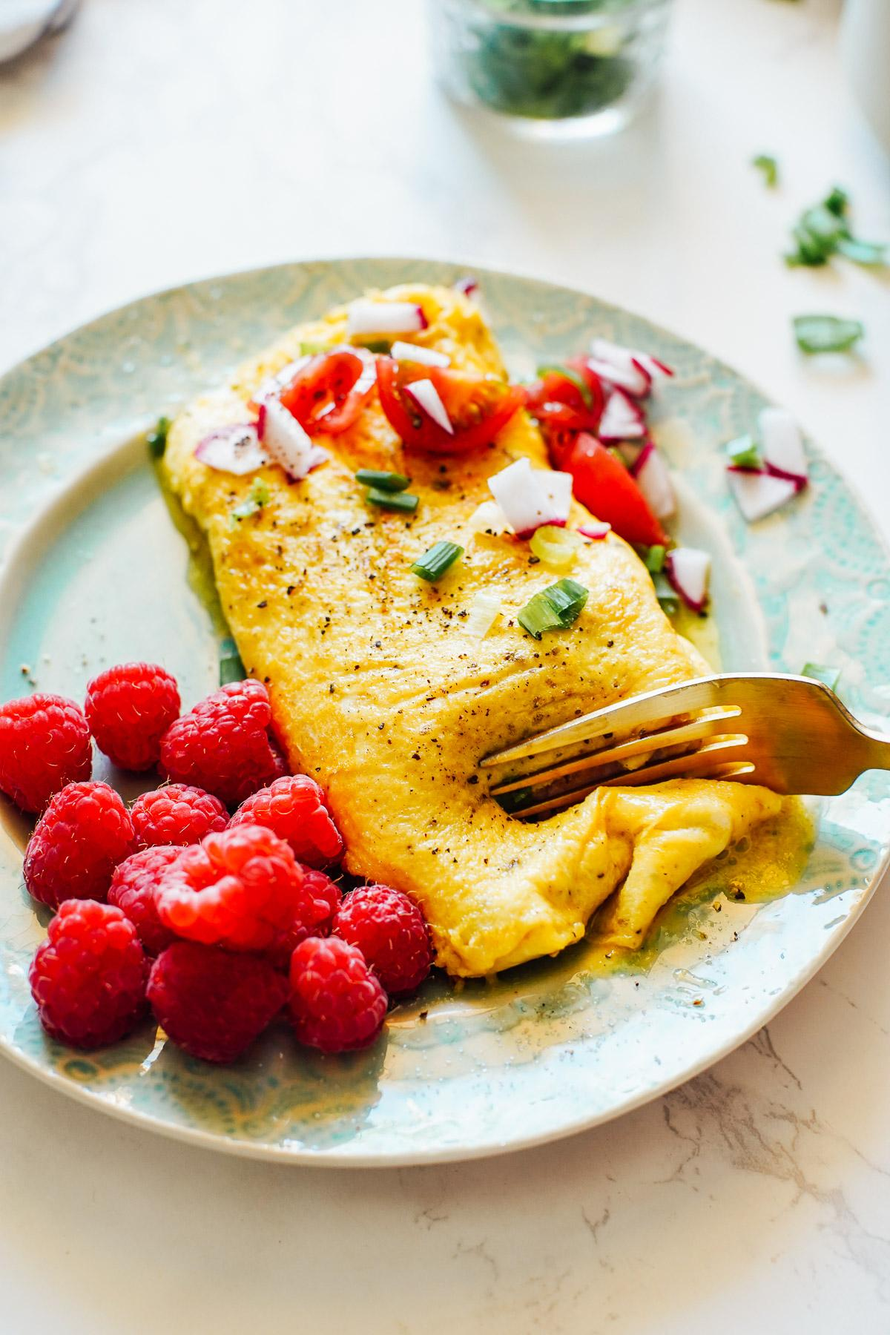omelette: (255, 302, 698, 846)
